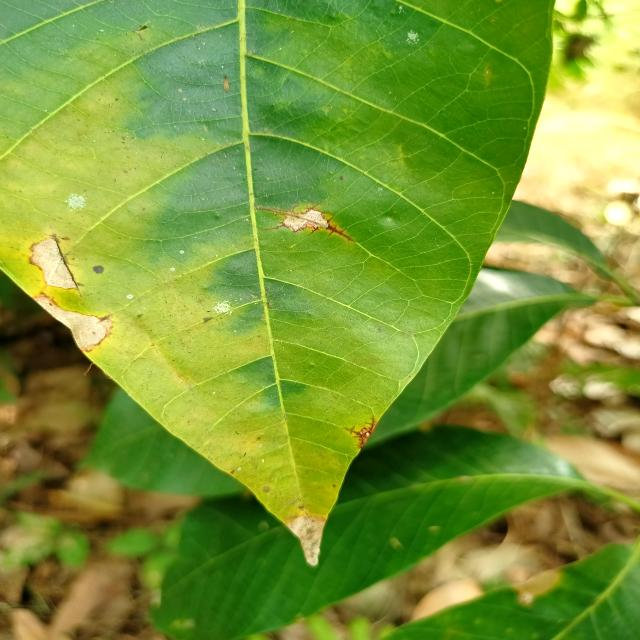Corynespora: (252, 202, 356, 242), (343, 414, 378, 449)
Leaf-Blight: (30, 294, 112, 352), (29, 238, 78, 290), (282, 514, 329, 566), (284, 209, 329, 230)
